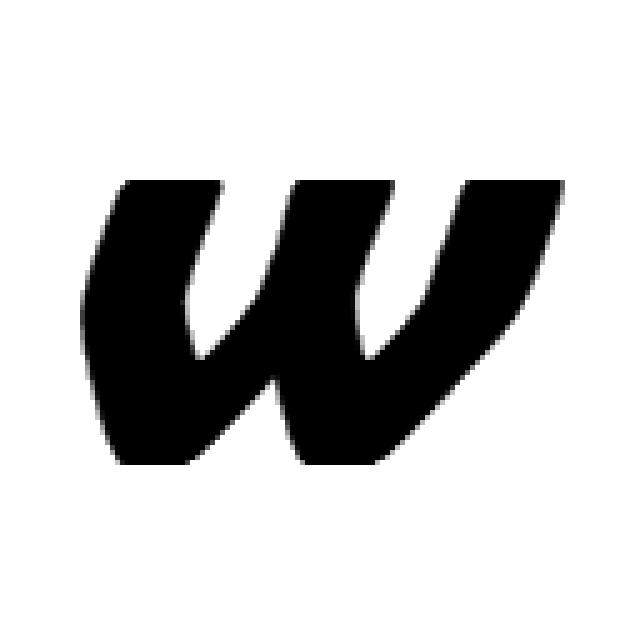W: (75, 184, 552, 456)
